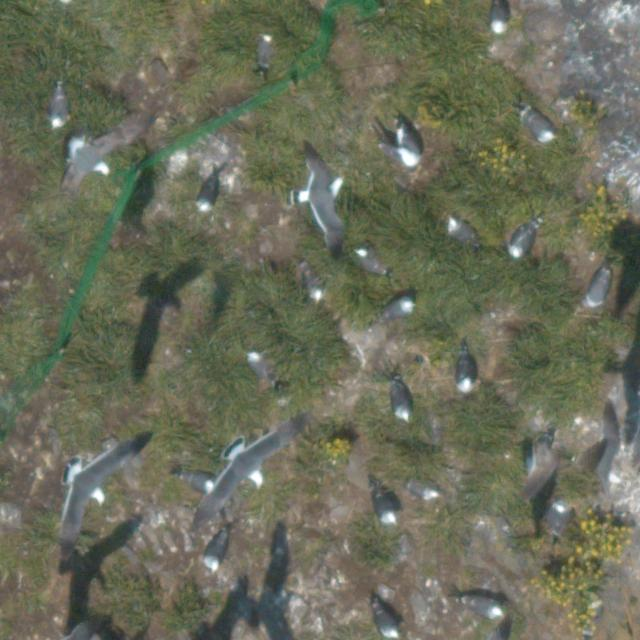F: (64, 439, 139, 545), (212, 426, 291, 506), (66, 113, 152, 185), (298, 162, 342, 236)
umineko: (297, 258, 328, 303), (526, 113, 555, 142), (586, 270, 608, 304), (510, 224, 534, 254), (205, 534, 226, 568), (398, 130, 419, 164), (465, 596, 500, 616), (546, 502, 566, 532), (50, 90, 68, 123), (384, 298, 413, 318), (376, 608, 396, 637), (459, 356, 476, 390), (182, 474, 214, 492), (357, 250, 381, 274), (394, 388, 412, 419), (448, 220, 472, 242), (257, 36, 273, 68), (492, 1, 508, 32), (197, 184, 214, 211), (408, 482, 436, 498), (247, 354, 264, 379), (379, 499, 396, 522)
